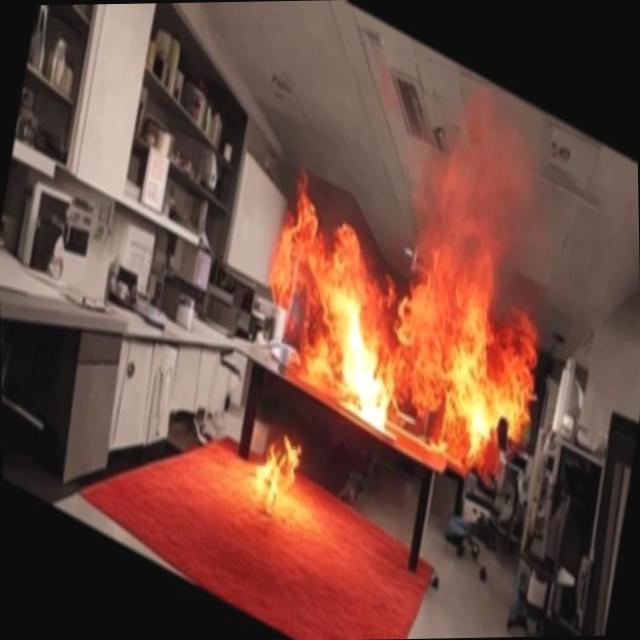fire: (240, 45, 573, 548)
